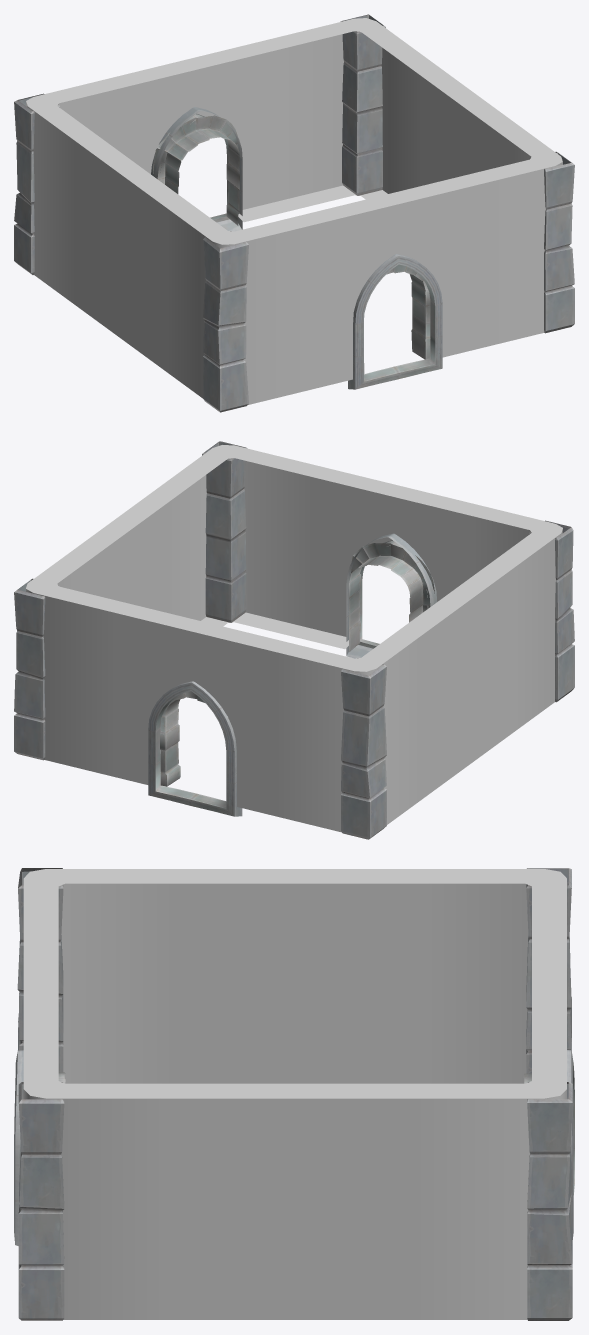
The model's file is SM_TowerE_Mid2Door.fbx.
The picture shows the model from 3 angles, top to bottom: view 1: azimuth 30°, elevation 25°; view 2: azimuth 150°, elevation 25°; view 3: azimuth 270°, elevation 25°; orthographic projection. The views are drawn at different scales.
Visible parts, largest first — view 1: SM_TowerE_Mid2Door_LOD0; view 2: SM_TowerE_Mid2Door_LOD0; view 3: SM_TowerE_Mid2Door_LOD0.
Boxes of the visible parts, x1,y1,x2,y2 form: SM_TowerE_Mid2Door_LOD0: (14, 14, 574, 412); SM_TowerE_Mid2Door_LOD0: (14, 441, 574, 839); SM_TowerE_Mid2Door_LOD0: (14, 868, 574, 1320).
Size of what is drawn, in the model's own units: 10.22 by 4.9 by 10.33.
